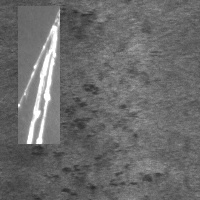rolled-in_scale: (41, 82, 153, 198), (46, 1, 107, 37)
scratches: (18, 6, 60, 144)
